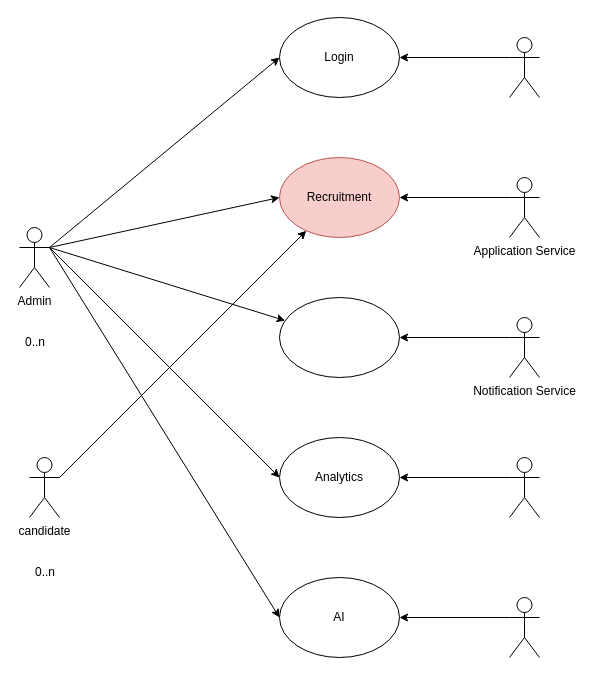
The diagram is 593 pixels wide and 696 high, and some of its shapes have lost their labels. Here are the shapes that lost their labels. From the top down, the centre of each, then its label:
At pixel 524 67: "Auth Service".
At pixel 339 337: "Notification".
At pixel 524 487: "A nalytics Service".
At pixel 524 627: "AI Service".
